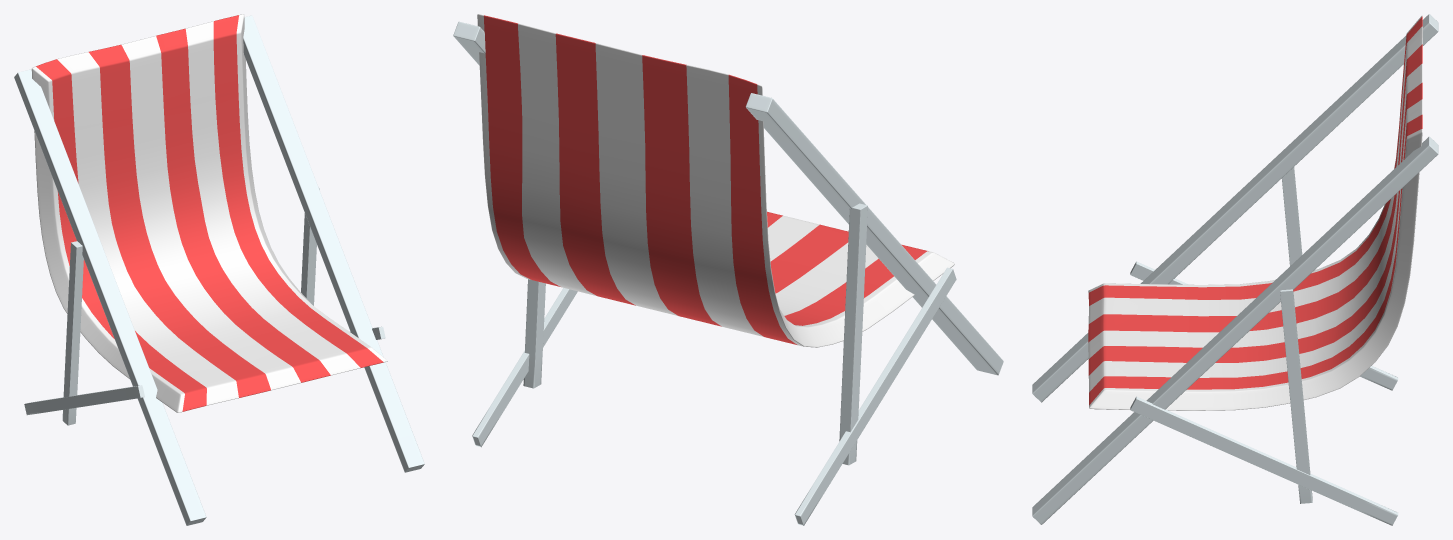
The model's file is silla de playa_model.obj.
The picture shows the model from 3 angles, left to right: view 1: azimuth 30°, elevation 25°; view 2: azimuth 150°, elevation 25°; view 3: azimuth 270°, elevation 25°; orthographic projection. The views are drawn at different scales.
Parts seen in each view (by area): view 1: polySurface2, pCube7, pCube8, pCube10, pCube9, pCube11; view 2: polySurface2, pCube7, pCube10, pCube9, pCube12, pCube11, pCube8; view 3: polySurface2, pCube8, pCube7, pCube12, pCube11, pCube10, pCube9.
Part boxes in pixels (box(x1,y1,x2,y2)): polySurface2: box(31, 14, 387, 412); pCube7: box(14, 69, 206, 525); pCube8: box(243, 15, 424, 472); pCube10: box(62, 241, 83, 425); pCube9: box(24, 385, 144, 415); pCube11: box(301, 187, 319, 305); polySurface2: box(477, 14, 954, 347); pCube7: box(745, 93, 1003, 375); pCube10: box(839, 203, 867, 465); pCube9: box(794, 267, 956, 525); pCube12: box(472, 288, 577, 447); pCube11: box(523, 279, 545, 388); pCube8: box(453, 21, 485, 65); polySurface2: box(1088, 15, 1422, 410); pCube8: box(1032, 136, 1438, 524); pCube7: box(1032, 14, 1438, 402); pCube12: box(1130, 396, 1398, 525); pCube11: box(1280, 289, 1312, 503); pCube10: box(1282, 167, 1302, 265); pCube9: box(1130, 261, 1398, 390).
Size of the model in its own units: 2.79 by 3.66 by 3.48.
4 materials, 4 textured.
